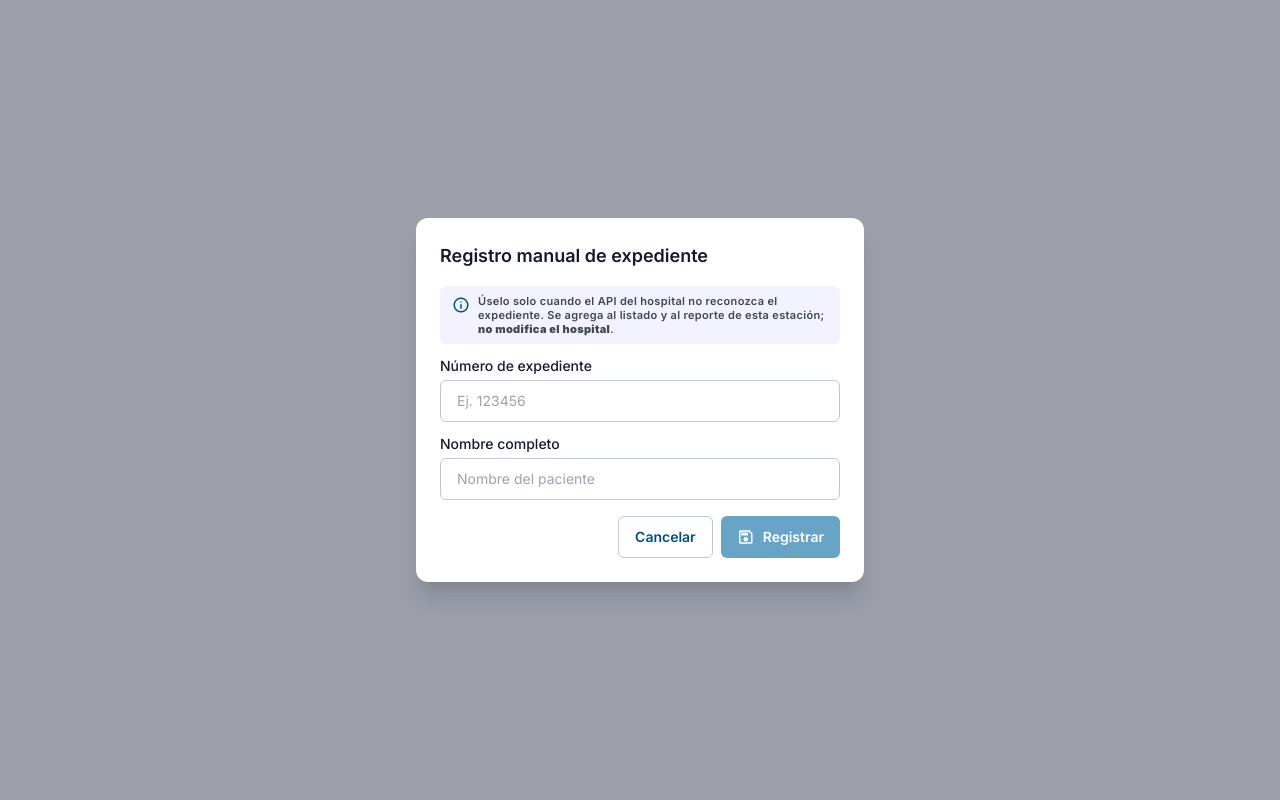
Test: ModalRegistroManual › muestra el conflicto cuando el expediente ya está en el listado
This screenshot has width=1280, height=800.
Type "123456" into the field labelled "Número de expediente".
click(640, 401); type("123456")  # box [440,380,840,422]
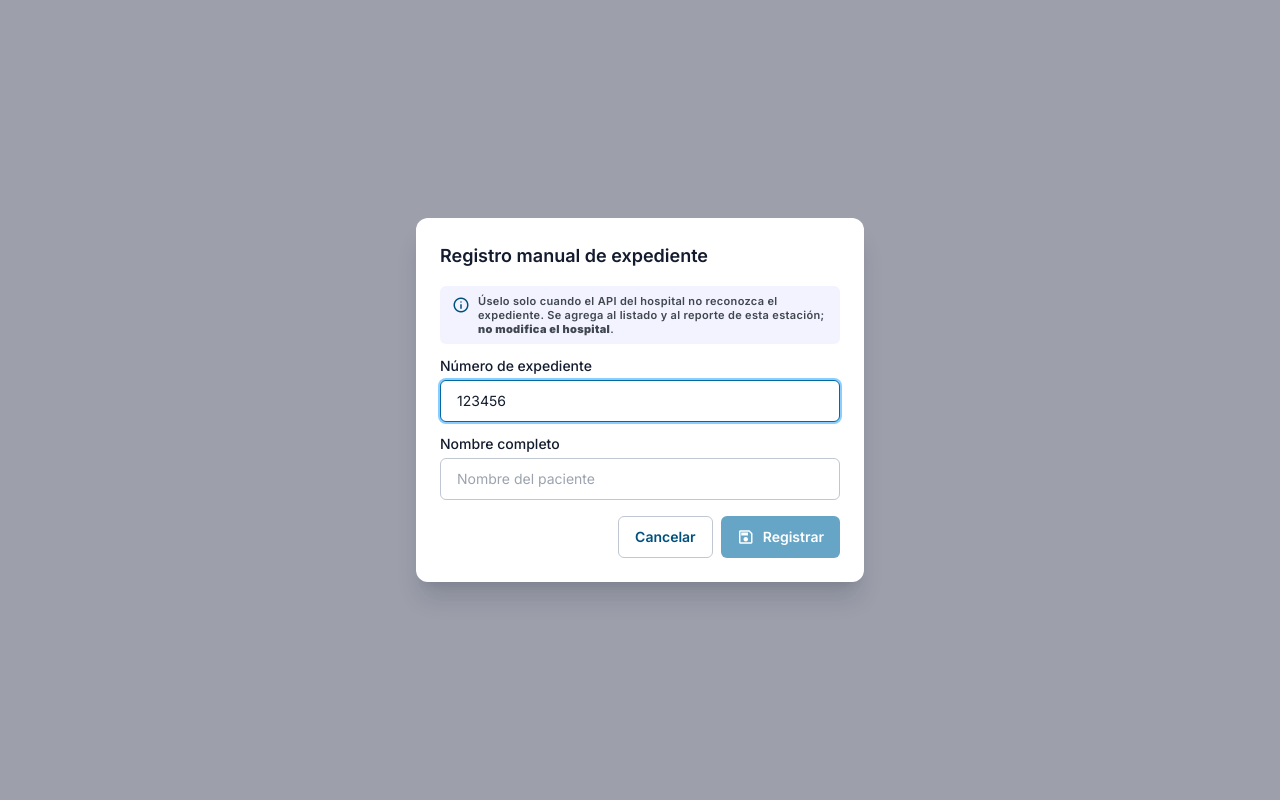
Type "Juan Pérez" into the field labelled "Nombre completo".
click(640, 479); type("Juan Pérez")  # box [440,458,840,500]
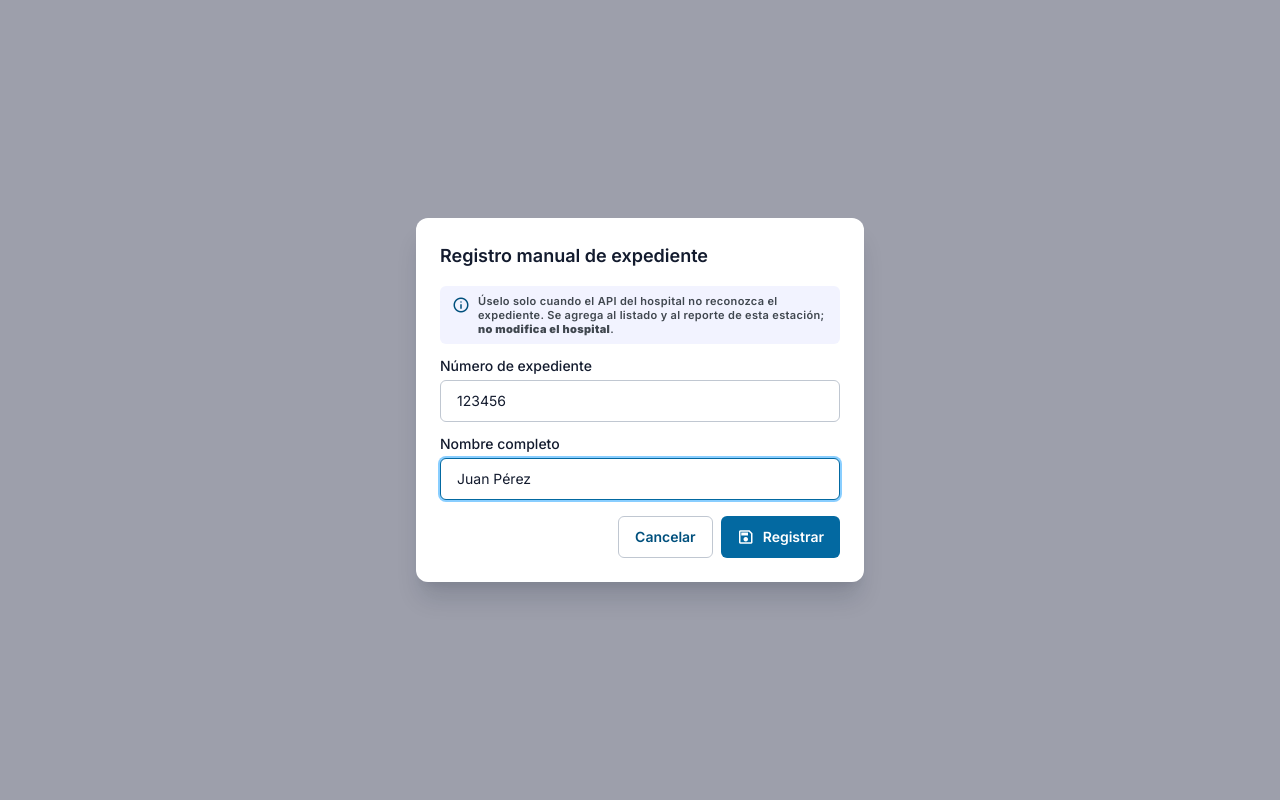
Click the button "Registrar".
click(780, 537)  # box [721,516,840,558]
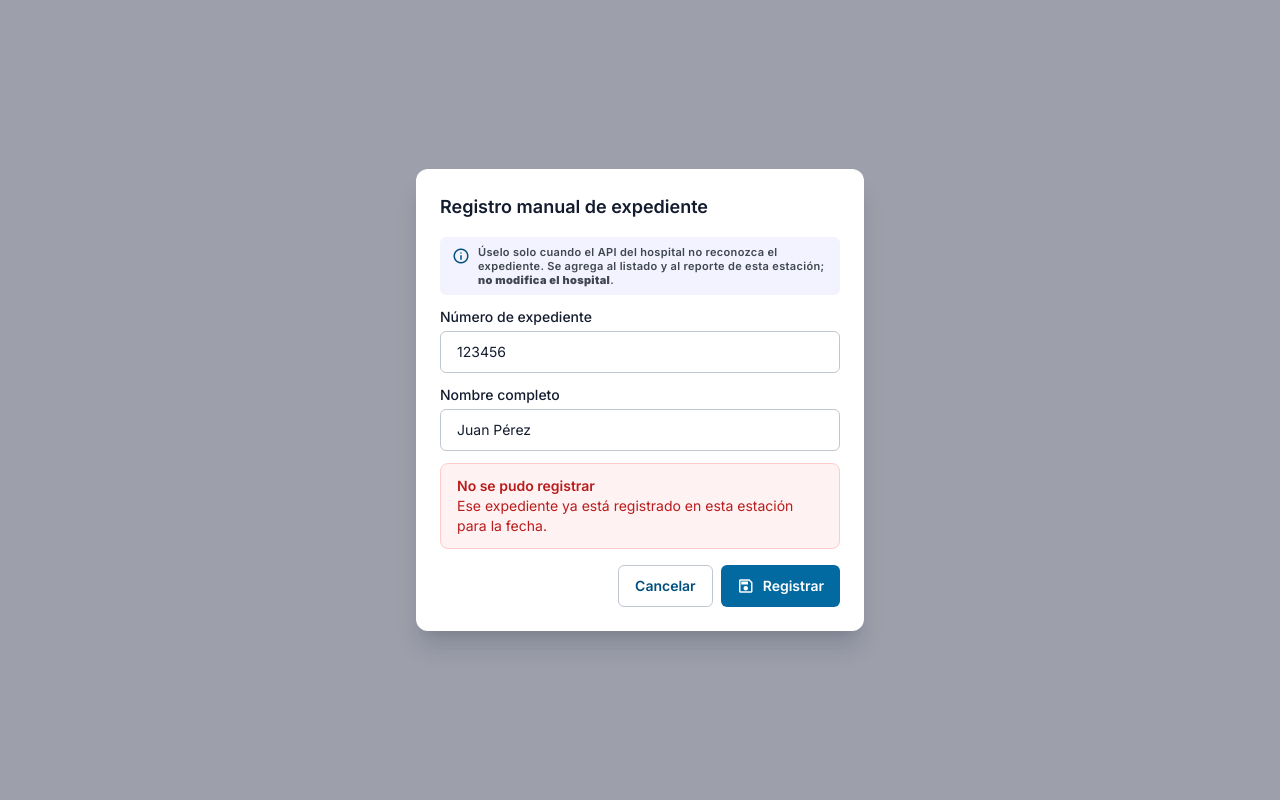
Now the text "ya está registrado en esta estación" is shown, box [457,497,793,534]
